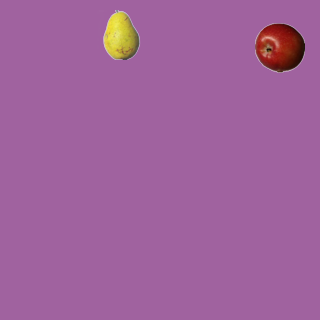Apple Braeburn: (254, 22, 304, 72)
Pear Monster: (96, 9, 146, 59)
